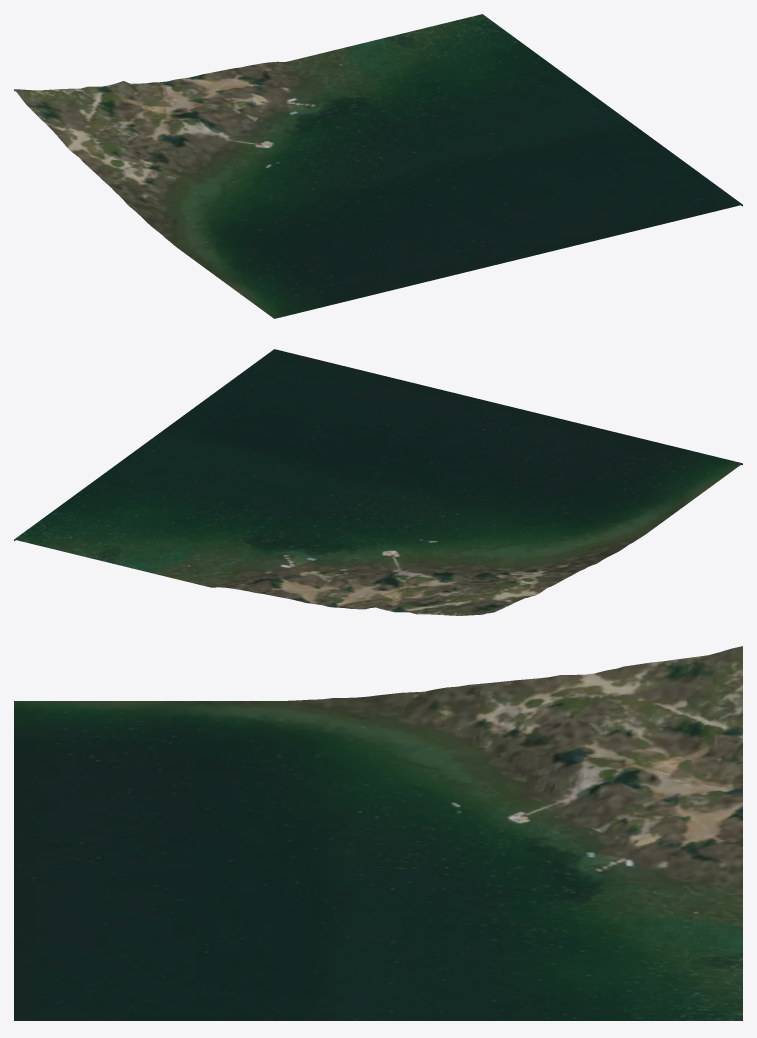
The picture shows the model from 3 angles, top to bottom: view 1: azimuth 30°, elevation 25°; view 2: azimuth 150°, elevation 25°; view 3: azimuth 270°, elevation 25°; orthographic projection. The views are drawn at different scales.
Bounding box in the file's own units: 250 × 21.03 × 241.
Materials: 1 (1 with a texture image).
